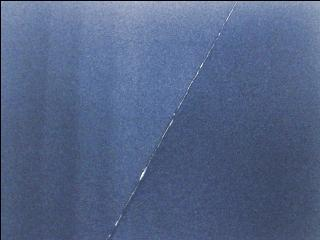crack: (105, 0, 238, 240)
